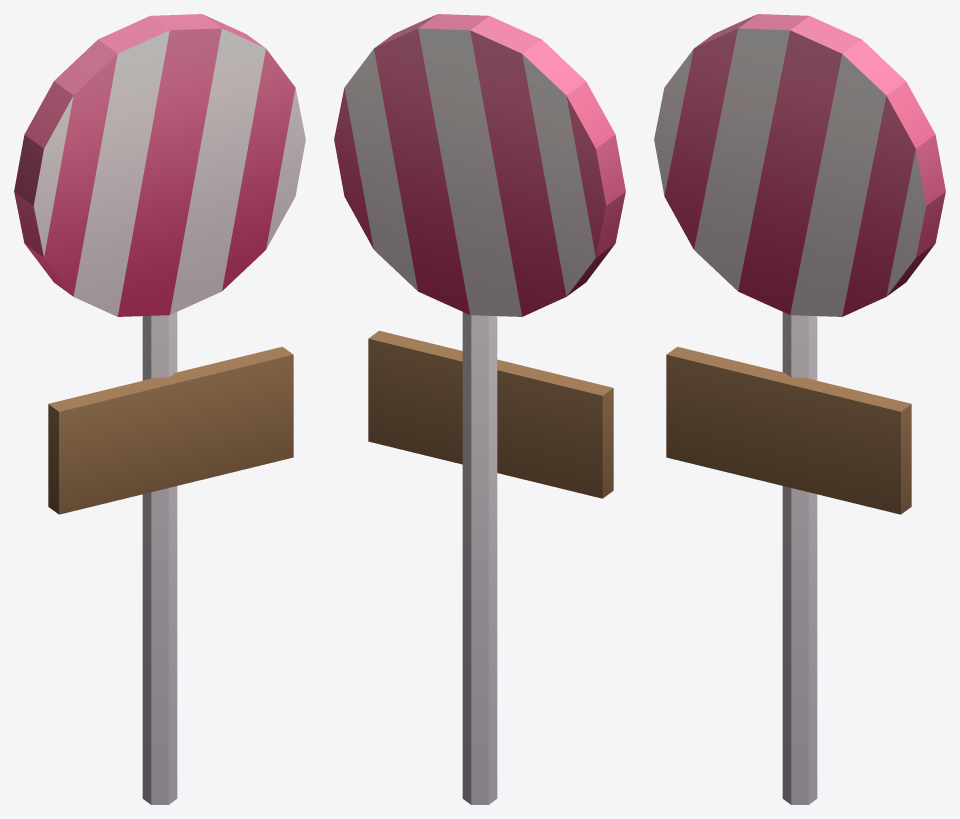
The model's file is PlayGround_Kit_Lollipop_Sign.fbx.
3 renders of one model, left to right at view 1: azimuth 30°, elevation 25°; view 2: azimuth 150°, elevation 25°; view 3: azimuth 330°, elevation 25°, orthographic.
Parts seen in each view (by area): view 1: PlayGround_Kit_Lollipop_Sign; view 2: PlayGround_Kit_Lollipop_Sign; view 3: PlayGround_Kit_Lollipop_Sign.
Part boxes in pixels (bbox=[...]): PlayGround_Kit_Lollipop_Sign: bbox=[14, 14, 305, 804]; PlayGround_Kit_Lollipop_Sign: bbox=[334, 14, 625, 804]; PlayGround_Kit_Lollipop_Sign: bbox=[654, 14, 945, 804].
Bounding box in the file's own units: 0.72 × 1.96 × 0.12.
